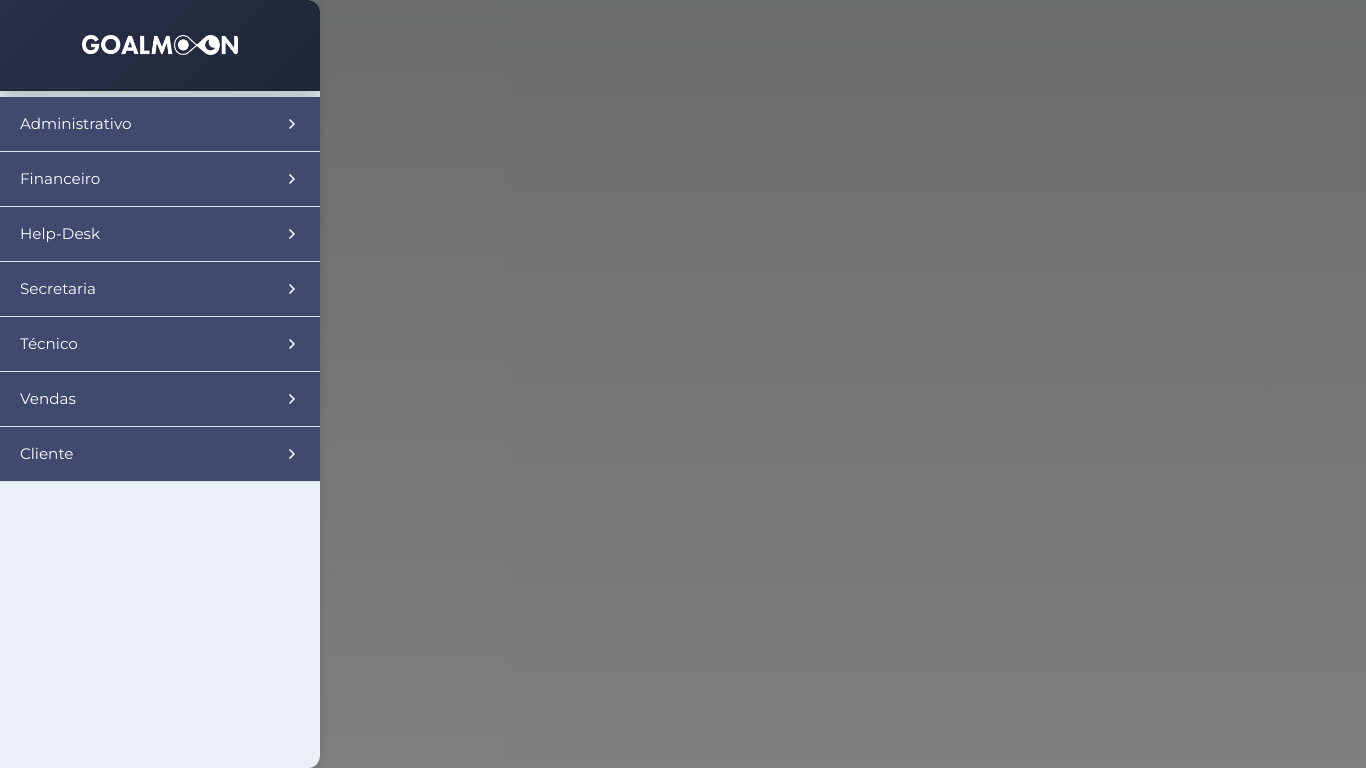
Test: SicoopMenu › deve fechar o submenu ao clicar novamente no subitem já selecionado
Click the text "Cliente".
click(160, 454)  # box [0,427,320,481]
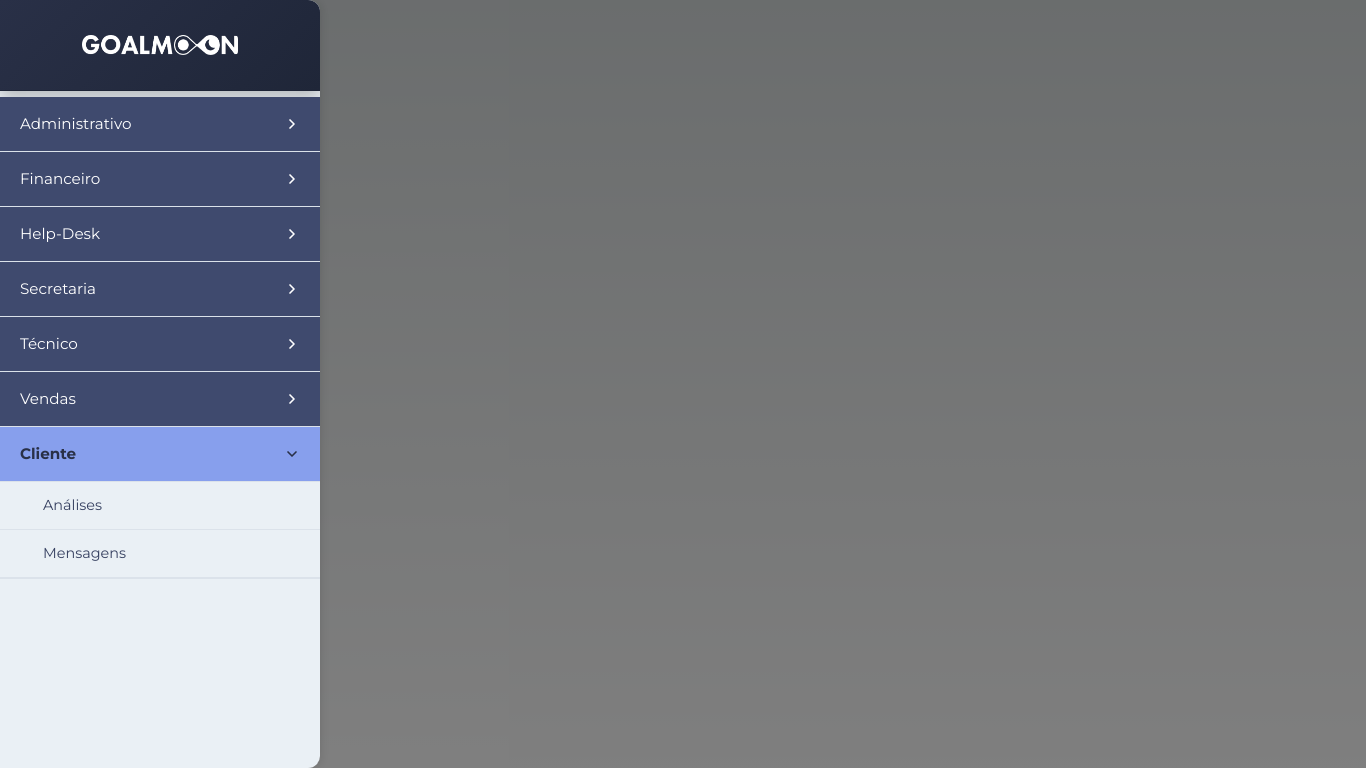
Click the link "Mensagens".
click(84, 553)  # box [43,544,126,562]
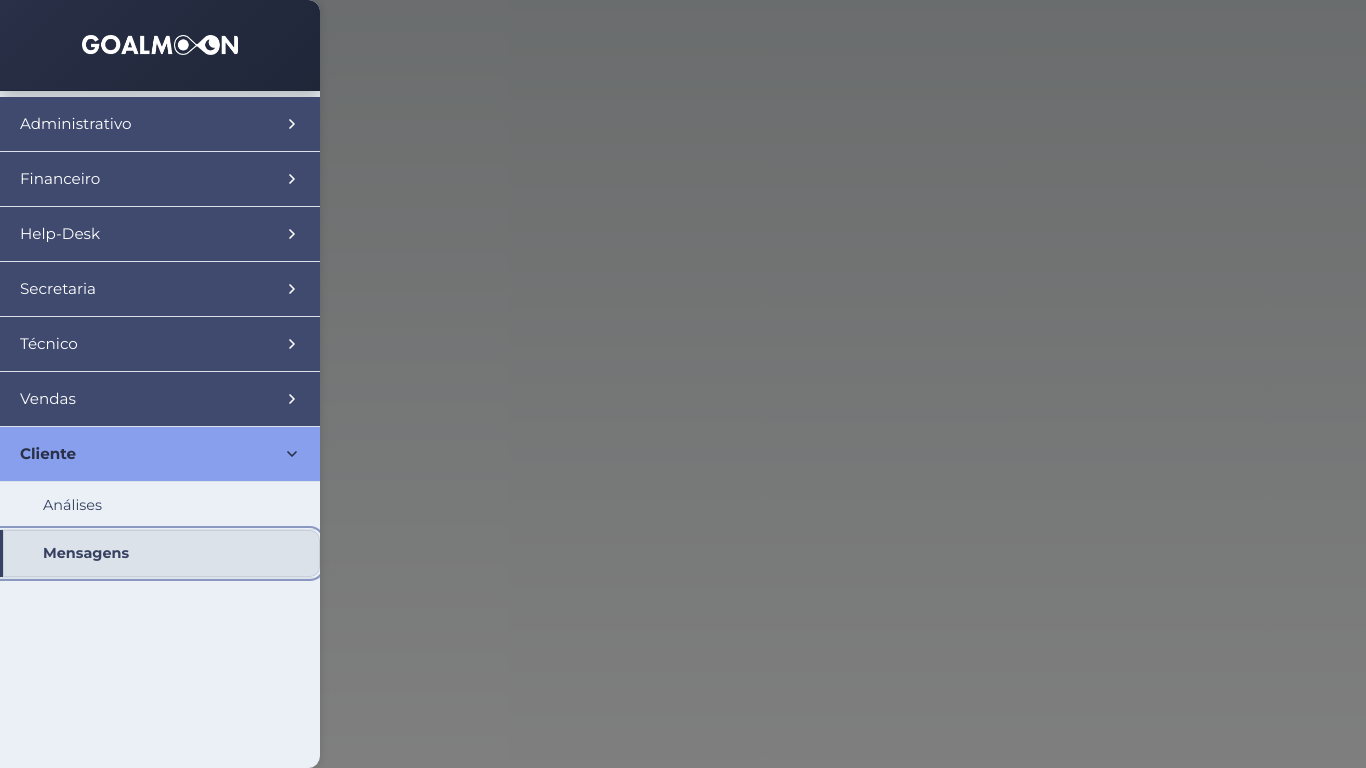
Now the link "Mensagens" is shown
Click the link "Mensagens".
click(86, 553)  # box [0,530,320,577]
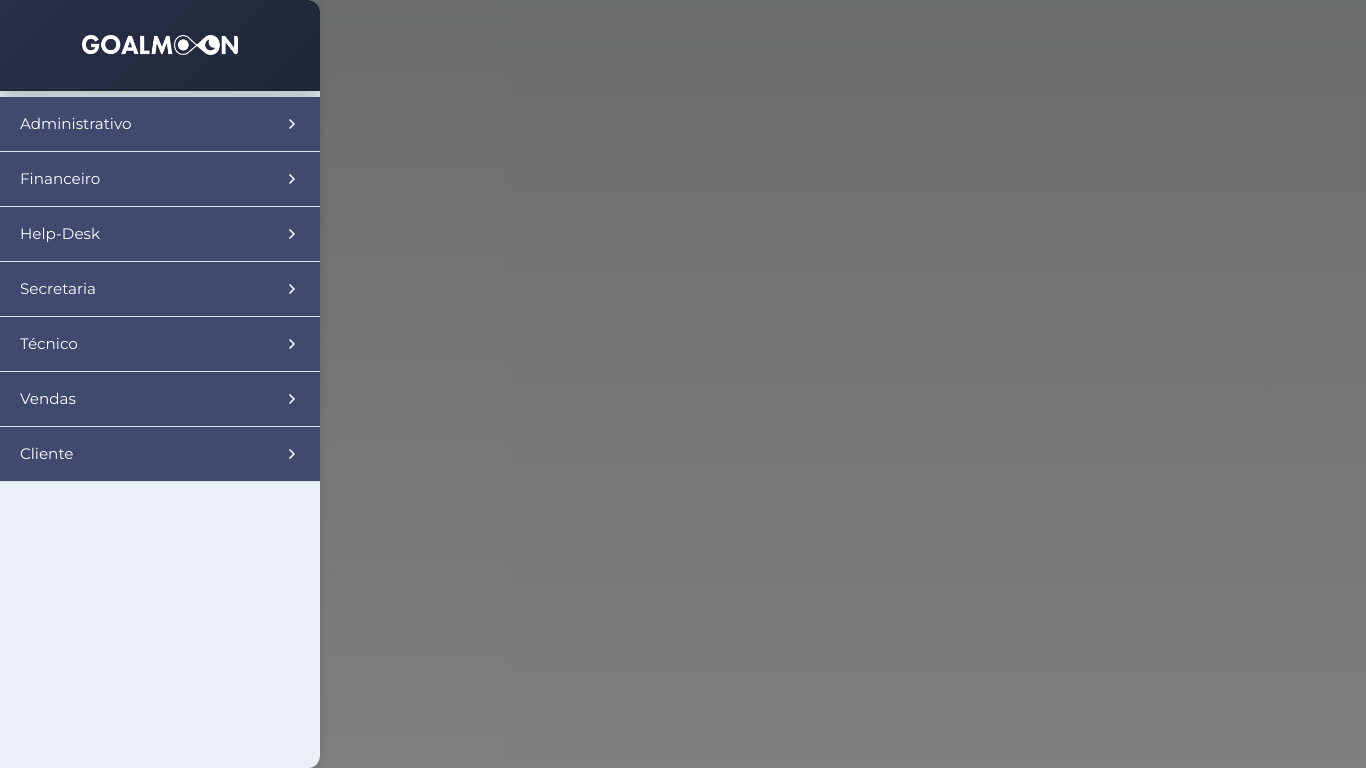
Now the link "Mensagens" is gone
Now the link "Análises" is gone
